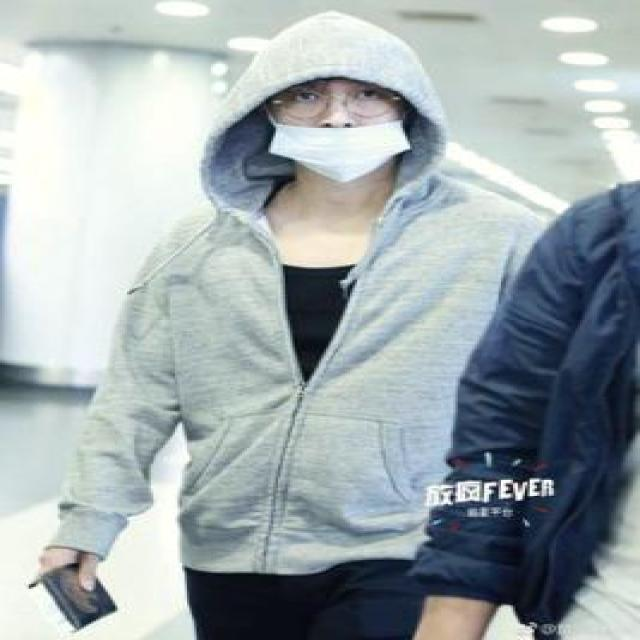mask_weared_incorrect: (260, 79, 411, 182)
